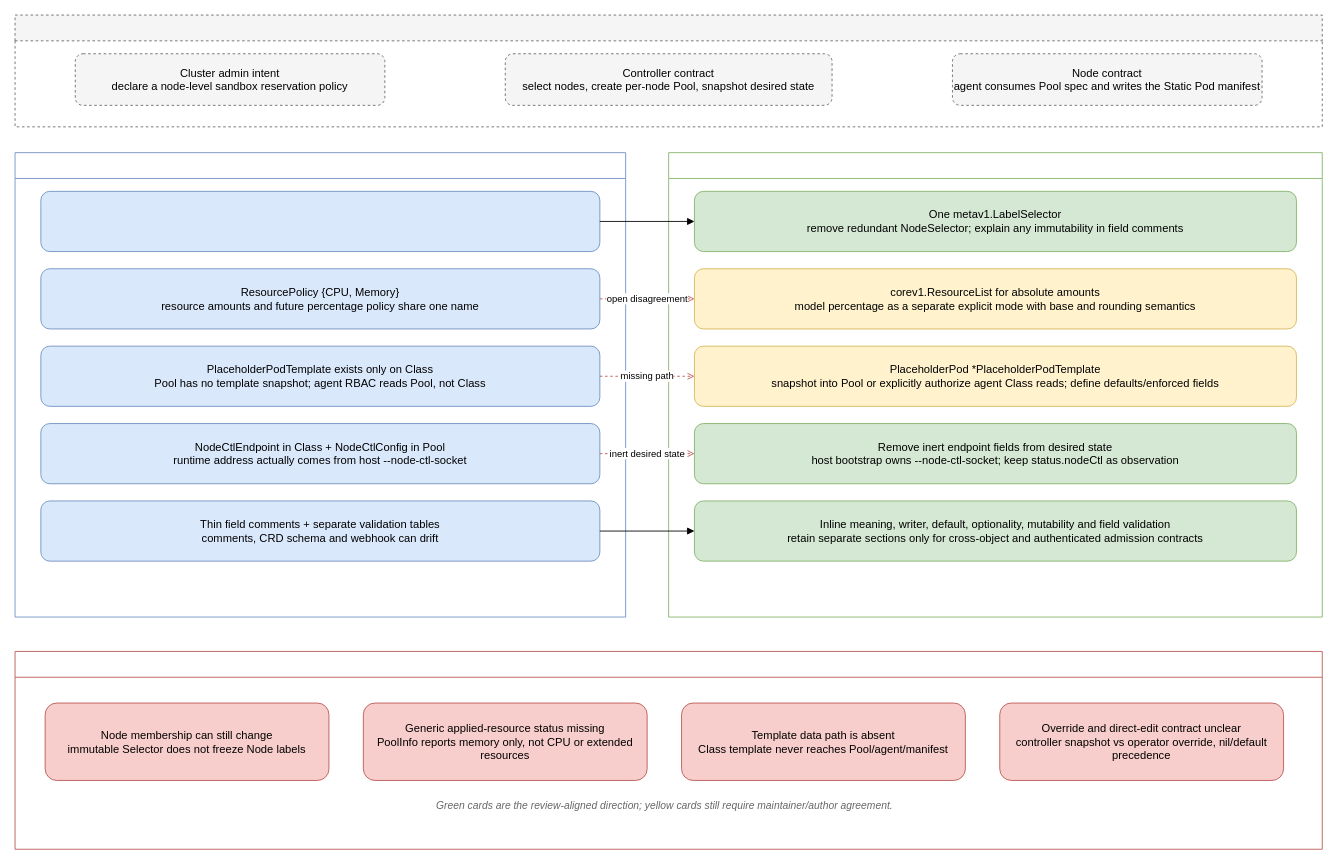
The diagram is 1337 pixels wide and 864 high, and some of its shapes have lost their labels. Each missing label, with the box of its shape:
API contract: current f380208 vs review direction: (14, 14, 1322, 127)
Cross-field and lifecycle gaps inferred from current text: (14, 651, 1322, 849)
Current public API in f380208: (14, 152, 626, 617)
Review direction and implementable ownership: (668, 152, 1322, 617)
Selector + NodeSelector two overlapping node filters; no composition rule: (40, 190, 600, 252)
